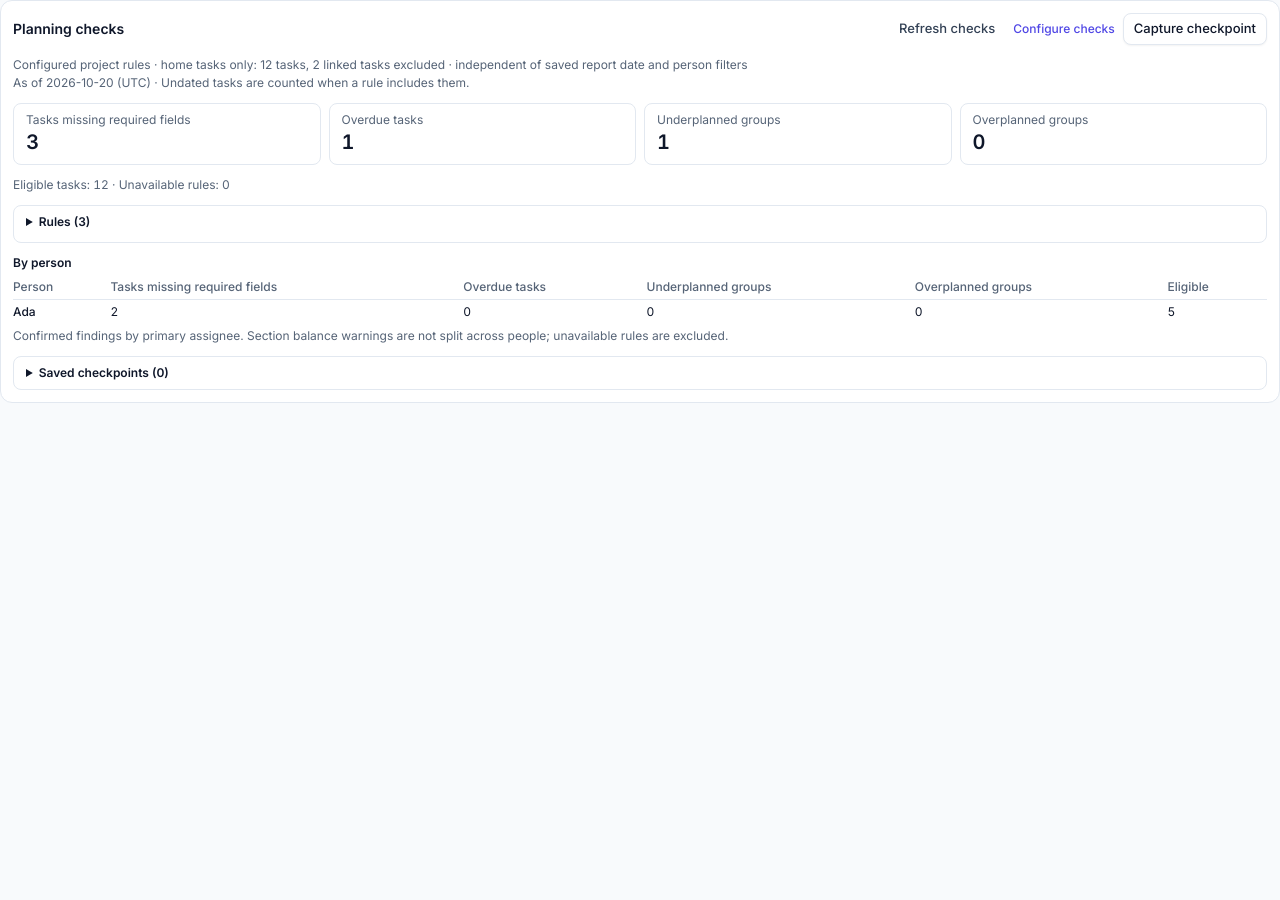
Test: project report read and capture controls › captures only after explicit confirmation and retries a lost ACK with the identical body and key
This screenshot has width=1280, height=900.
Expected: the element "Tasks missing required fields" is shown, left=13, top=103, right=320, bottom=165
Click the button "Capture checkpoint". click: (1195, 29)
box: left=1123, top=13, right=1267, bottom=45
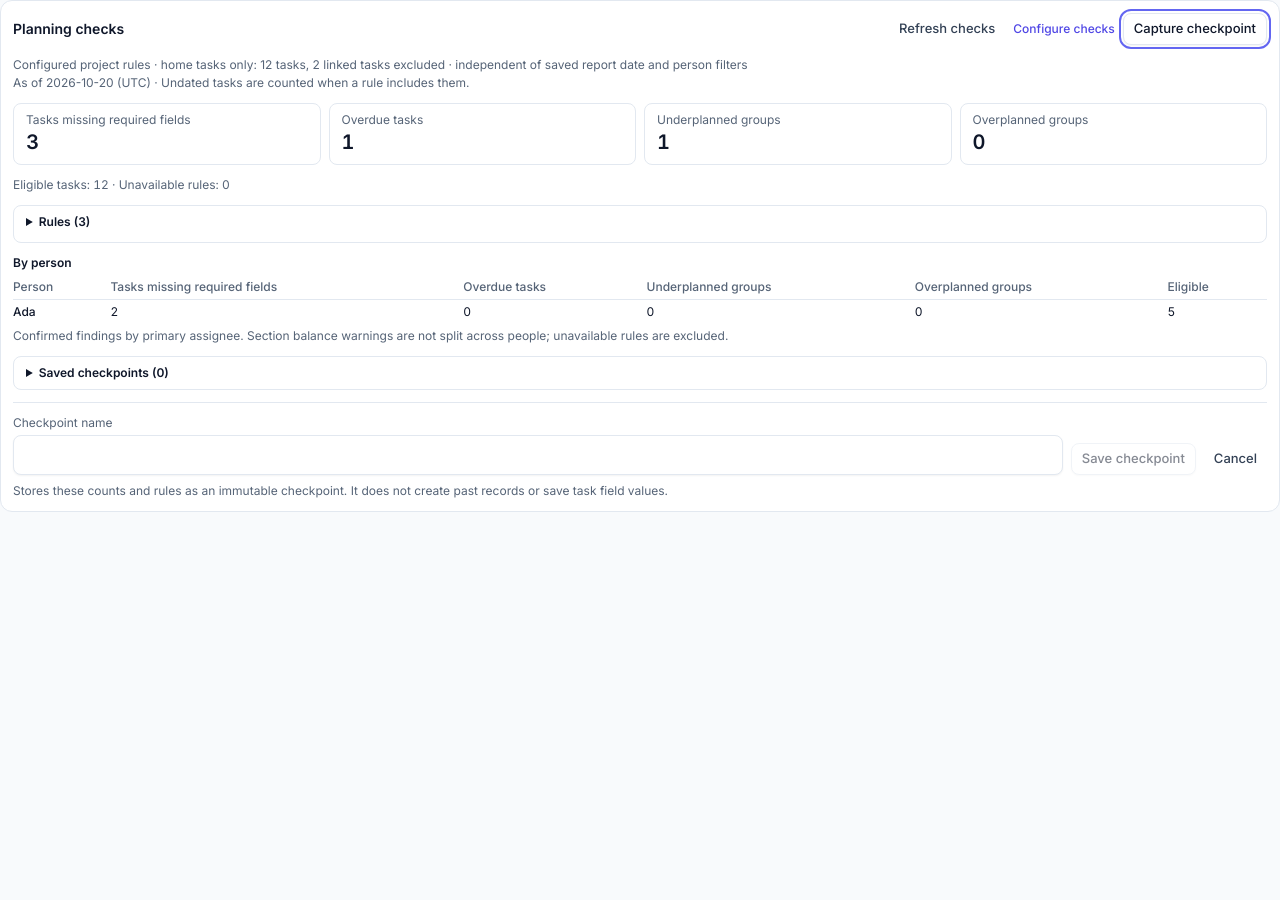
Type "Monday review" into the field labelled "Checkpoint name". click: (538, 455)
box: left=13, top=435, right=1063, bottom=475
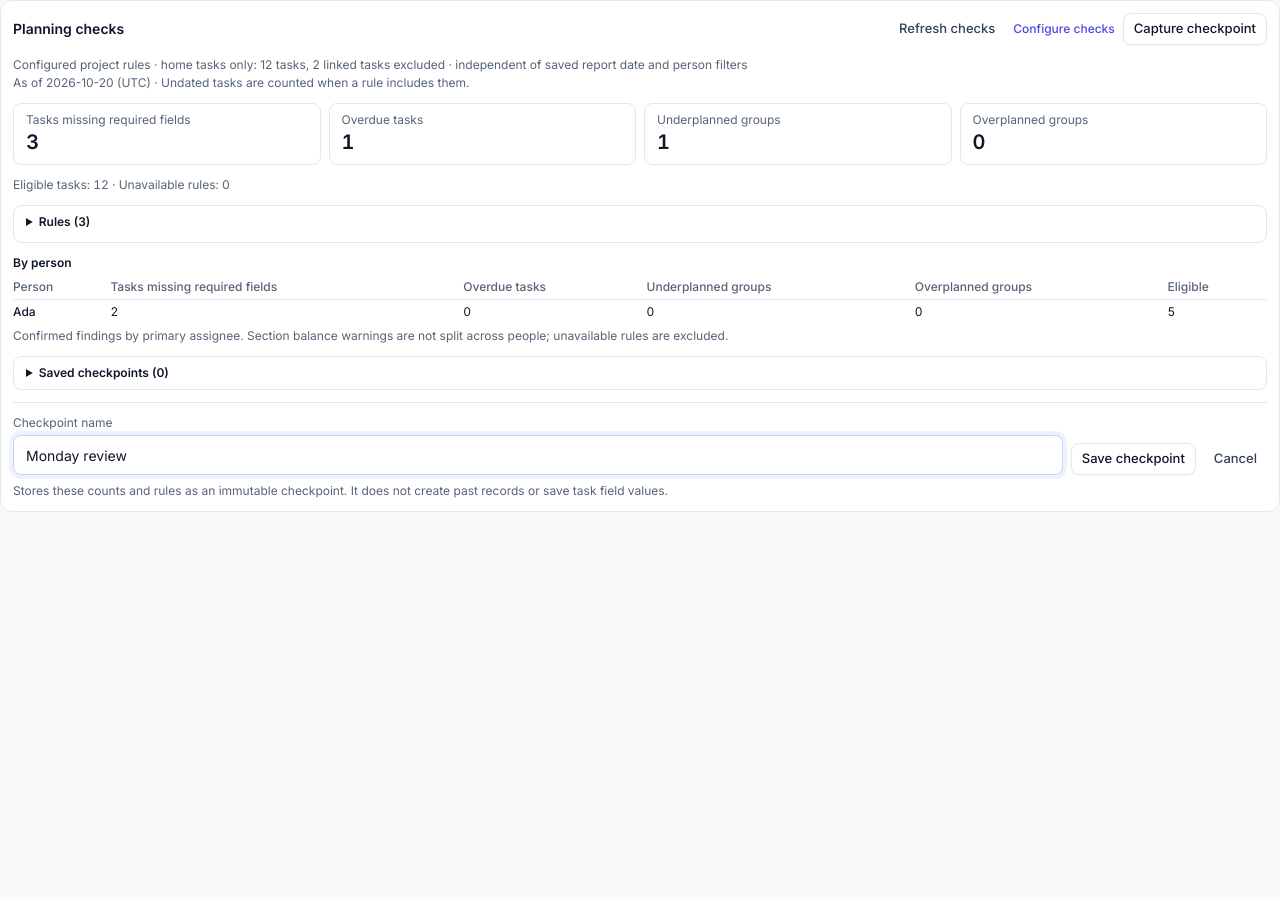
Click the button "Save checkpoint". click: (1133, 459)
box: left=1071, top=443, right=1196, bottom=475
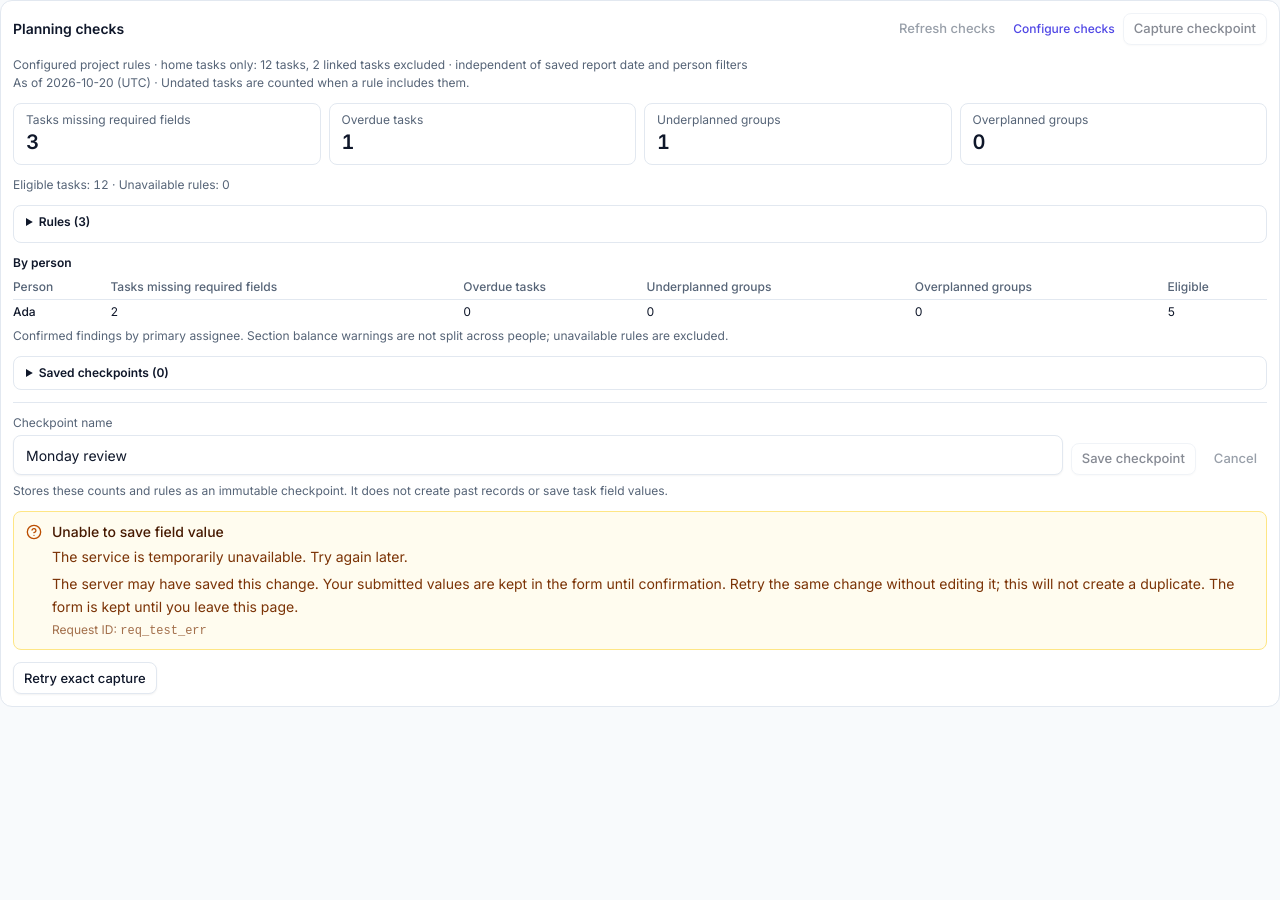
Click the button "Retry exact capture". click: (85, 678)
box: left=13, top=662, right=157, bottom=694
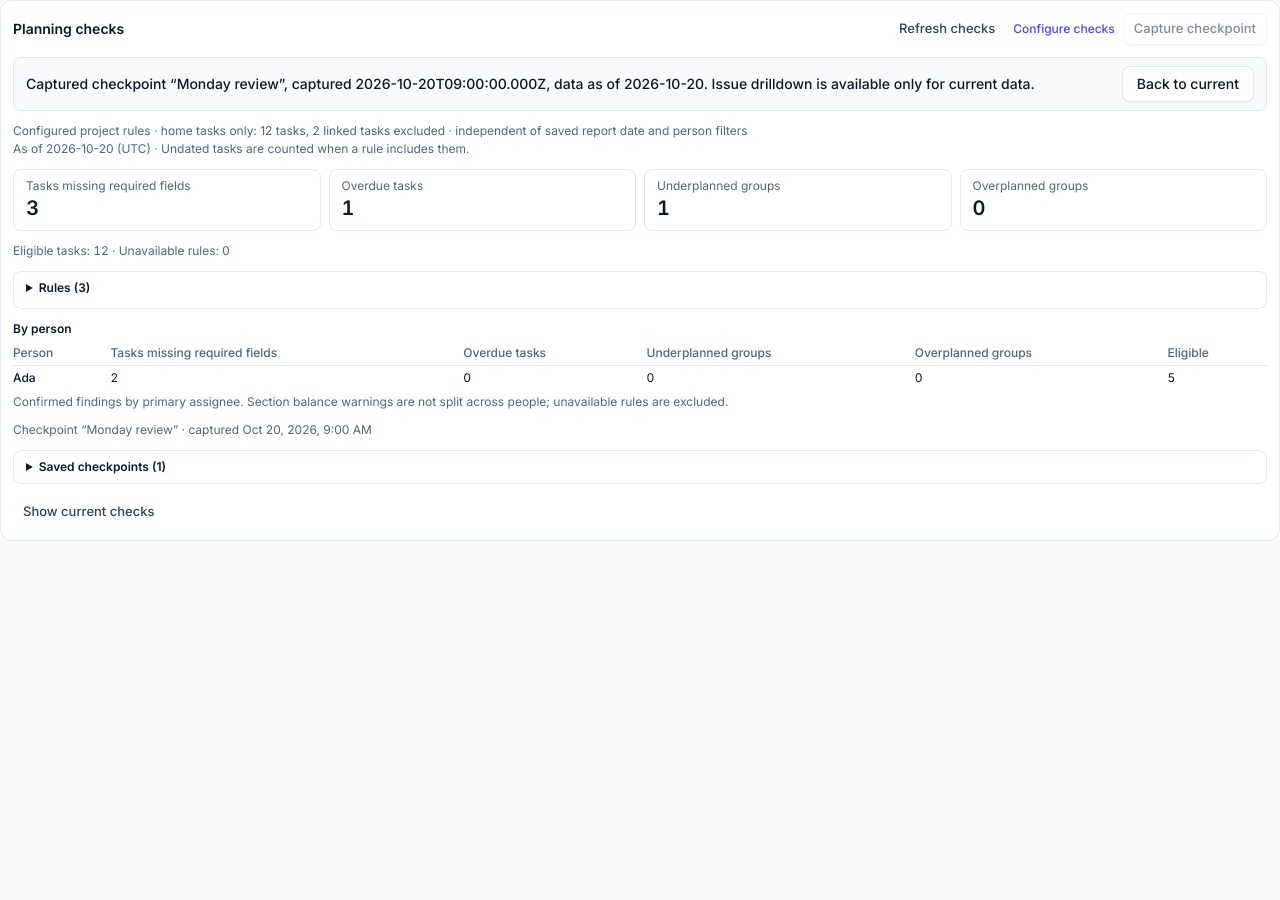
Result: the text "Checkpoint “Monday review” · captured Oct 20, 2026, 9:00 AM" is shown at left=13, top=422, right=372, bottom=437
